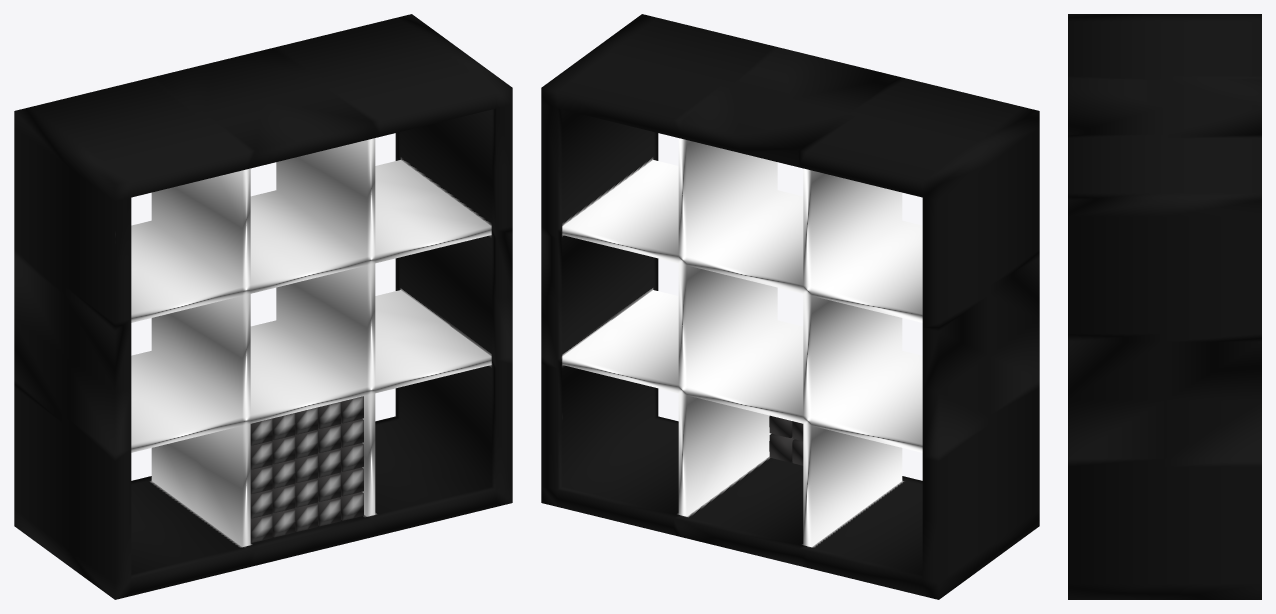
Rendered from Nisch.fbx.
3 renders of one model, left to right at view 1: azimuth 30°, elevation 25°; view 2: azimuth 150°, elevation 25°; view 3: azimuth 270°, elevation 25°, orthographic. The views are drawn at different scales.
Parts seen in each view (by area): view 1: Nisch, CapsuleBox; view 2: Nisch, CapsuleBox; view 3: Nisch.
Part boxes in pixels (left/top/right/bottom): Nisch: left=14, top=14, right=512, bottom=599; CapsuleBox: left=250, top=396, right=363, bottom=542; Nisch: left=541, top=14, right=1039, bottom=599; CapsuleBox: left=769, top=415, right=803, bottom=465; Nisch: left=1068, top=14, right=1261, bottom=599.
Bounding box in the file's own units: 94.71 × 94.56 × 41.57.
